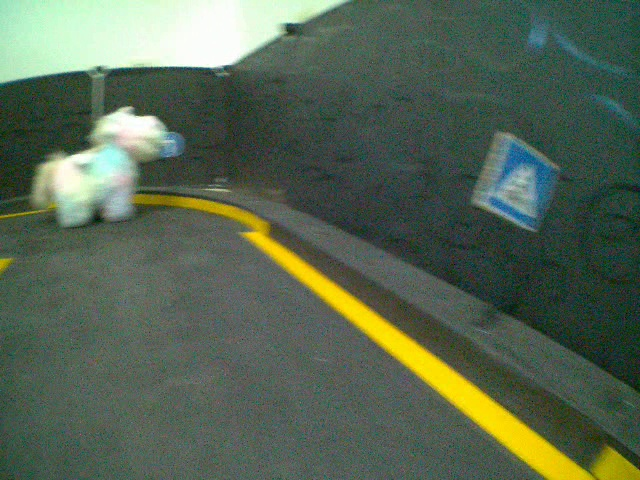unicorn: (26, 102, 174, 233)
